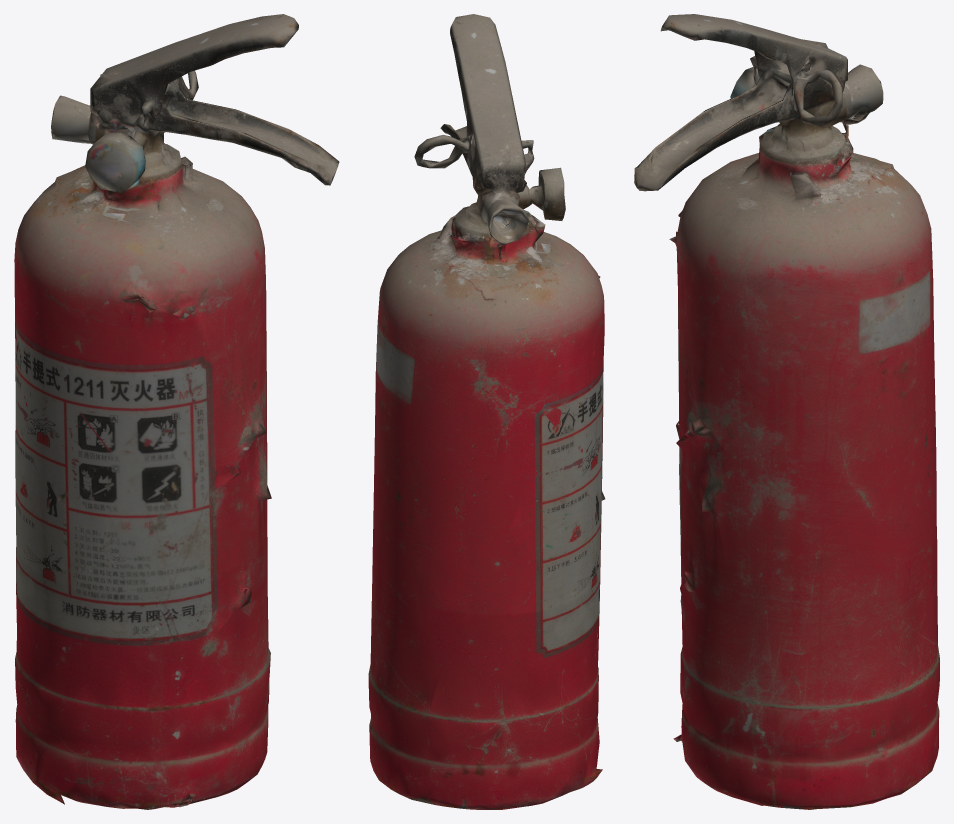
The model's file is PX_Fire_Extinguisher_01_LOD5.fbx.
3 renders of one model, left to right at view 1: azimuth 30°, elevation 25°; view 2: azimuth 150°, elevation 25°; view 3: azimuth 270°, elevation 25°, orthographic. The views are drawn at different scales.
Visible parts, largest first — view 1: PX_Fire_Extinguisher_01_LOD5; view 2: PX_Fire_Extinguisher_01_LOD5; view 3: PX_Fire_Extinguisher_01_LOD5.
Part boxes in pixels (<box>): PX_Fire_Extinguisher_01_LOD5: <box>14,14,339,809</box>; PX_Fire_Extinguisher_01_LOD5: <box>368,14,605,809</box>; PX_Fire_Extinguisher_01_LOD5: <box>634,14,939,809</box>.
Bounding box in the file's own units: 9.14 × 28.26 × 10.05.
